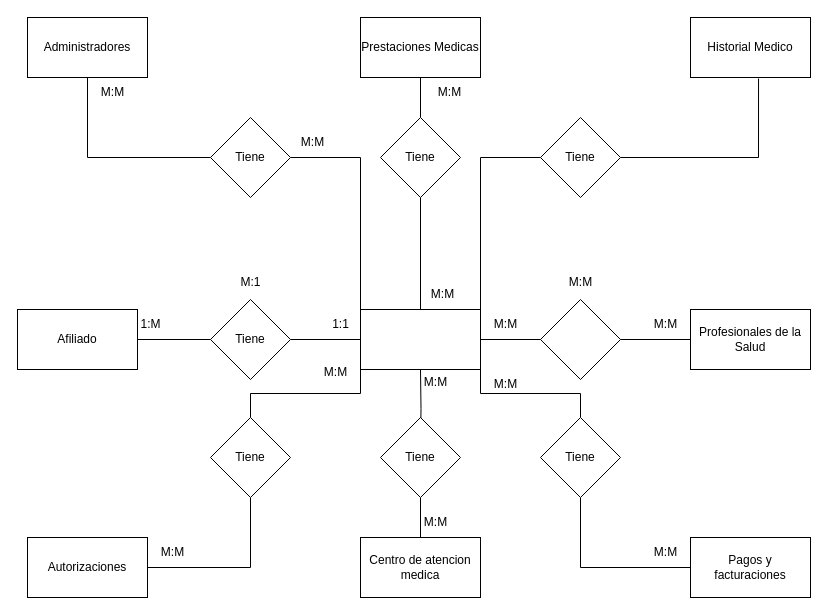
The diagram is 828 pixels wide and 615 high, and some of its shapes have lost their labels. The shapes that lost their labels are listed below. From the top down, each one's box as (x1, y1, x2, y2) in pixels, then its label:
(360, 308, 480, 370): Grupo Familiar
(540, 298, 620, 380): Tienen
